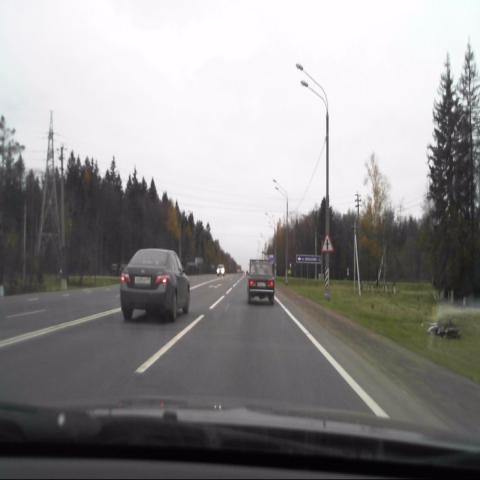2_3: (321, 232, 334, 253)
